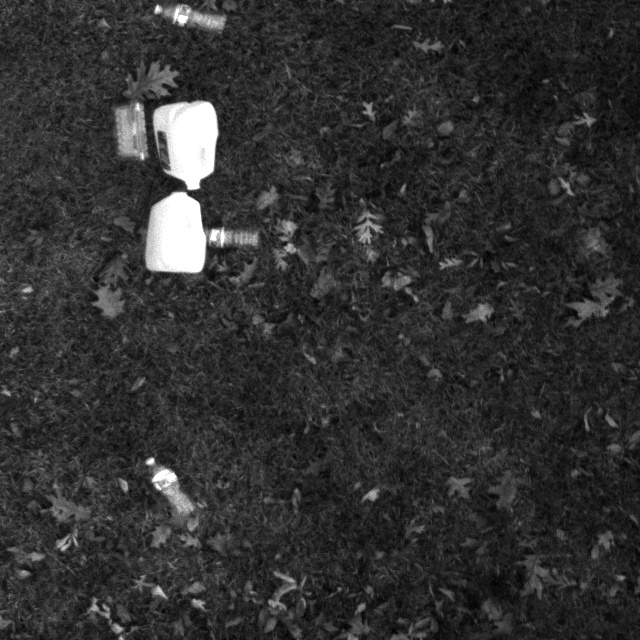bottle: (141, 454, 203, 530), (203, 221, 263, 252)
can: (153, 97, 230, 197), (144, 187, 216, 278)
container: (109, 90, 156, 171)
